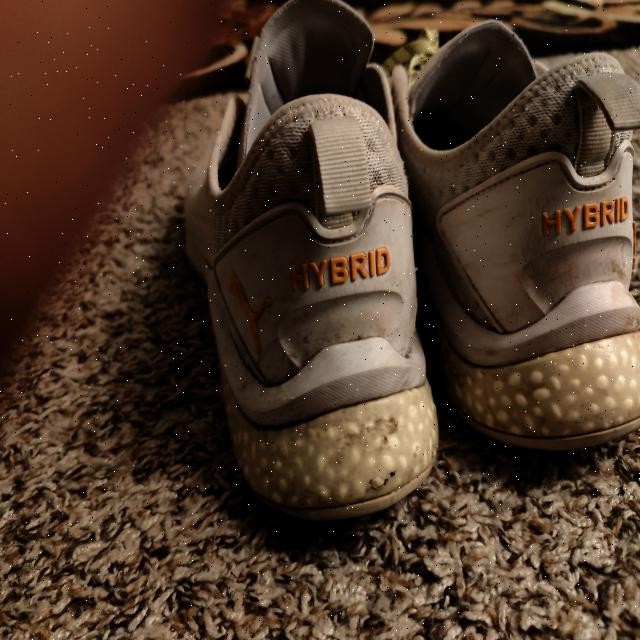white shoes: (196, 174, 640, 510)
